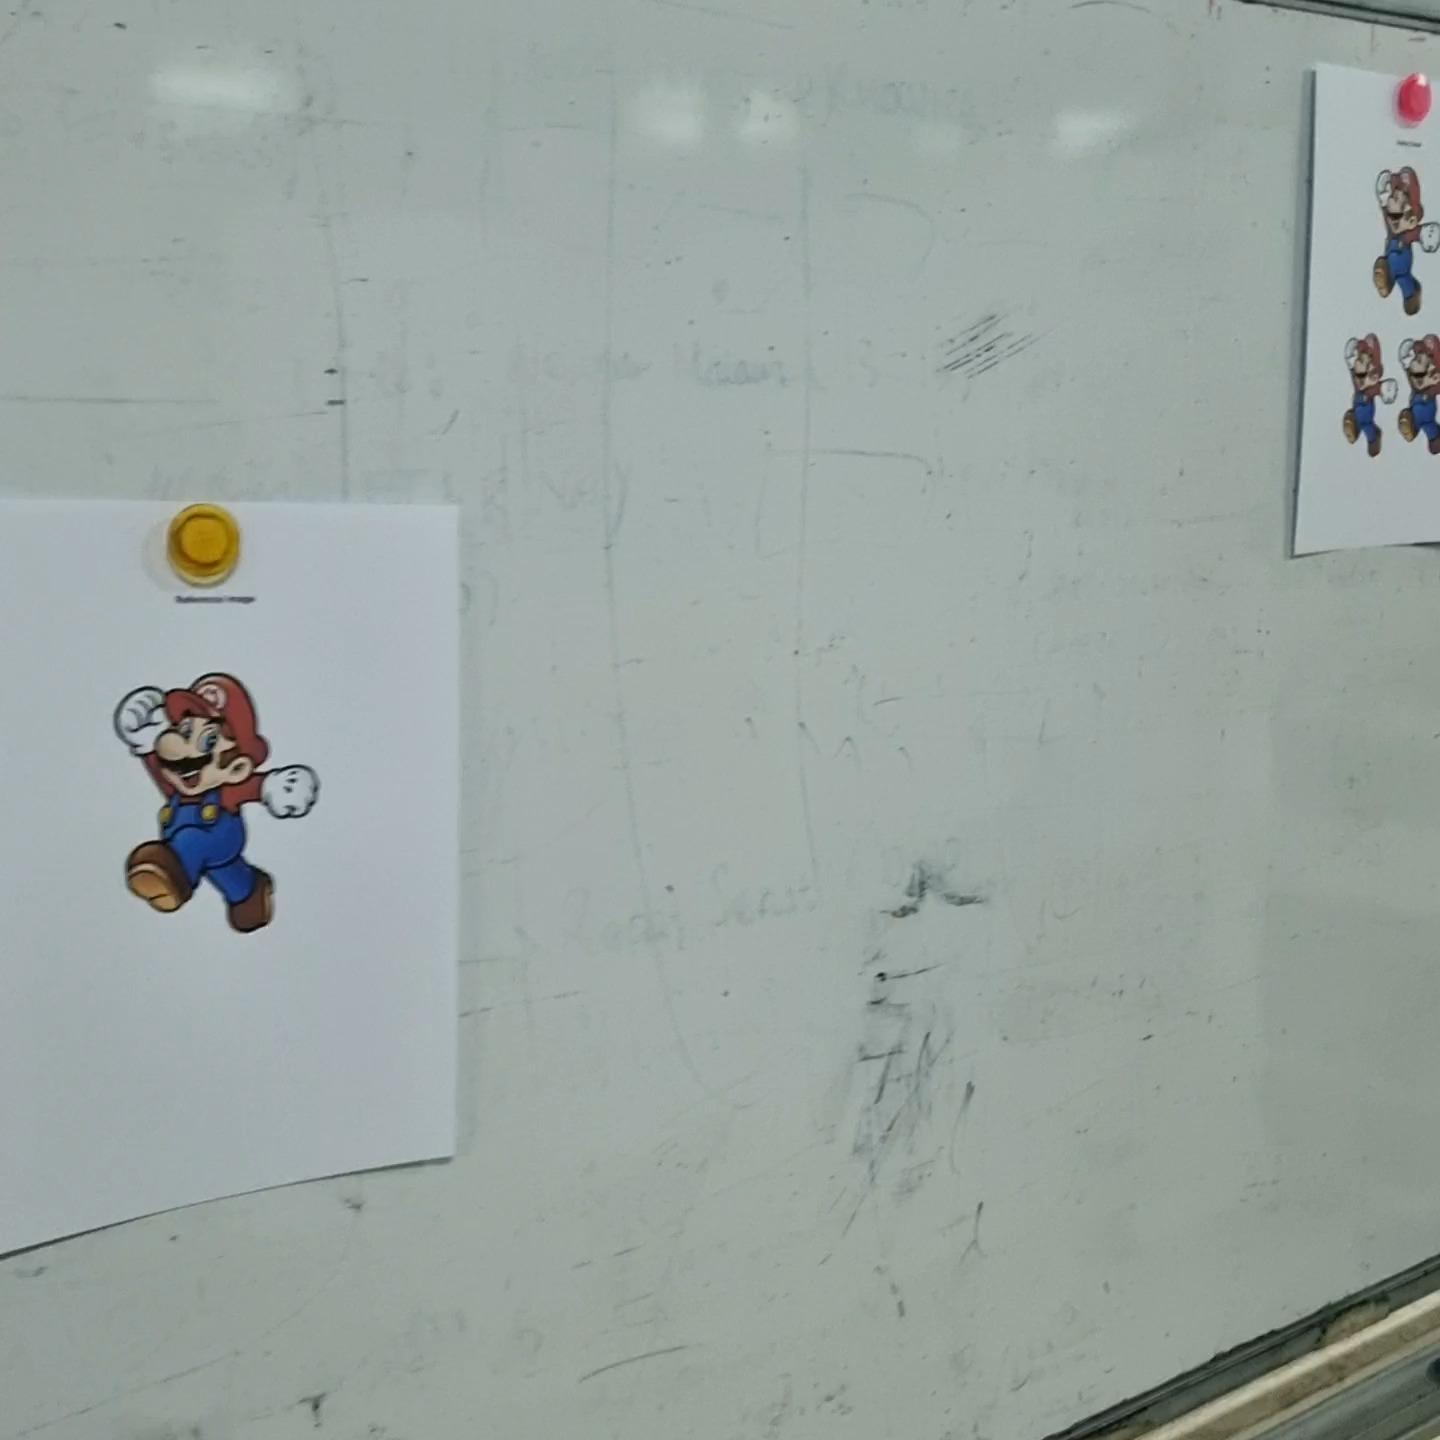mario: (107, 654, 326, 944), (1367, 164, 1439, 320), (1337, 327, 1398, 448), (1393, 334, 1437, 464)
